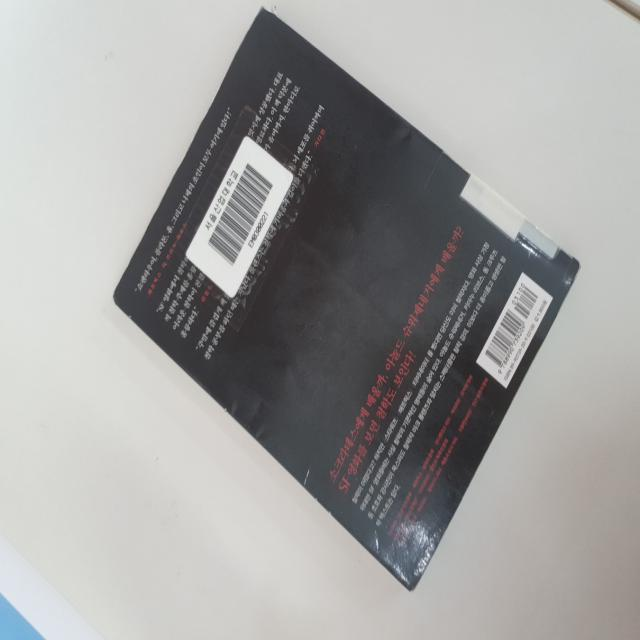Ripped: (256, 0, 289, 28)
Wornout: (558, 258, 583, 313), (108, 278, 135, 323), (408, 574, 424, 595)
